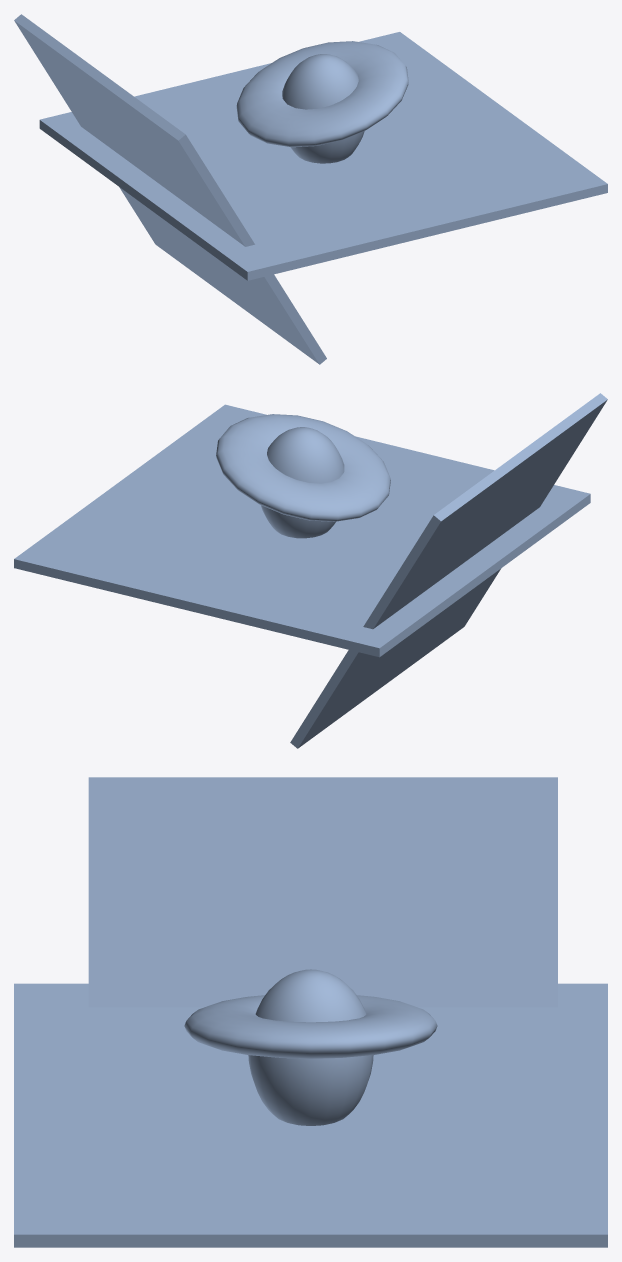
Rendered from Background.fbx.
3 renders of one model, top to bottom at view 1: azimuth 30°, elevation 25°; view 2: azimuth 150°, elevation 25°; view 3: azimuth 270°, elevation 25°, orthographic. The views are drawn at different scales.
Visible parts, largest first — view 1: pCube1, pCube2, pTorus1, pSphere1; view 2: pCube1, pCube2, pTorus1, pSphere1; view 3: pCube1, pCube2, pSphere1, pTorus1.
Part boxes in pixels (x1=…): pCube1: x1=39, y1=32, x2=607, y2=280; pCube2: x1=14, y1=14, x2=326, y2=364; pTorus1: x1=236, y1=41, x2=408, y2=147; pSphere1: x1=282, y1=54, x2=364, y2=163; pCube1: x1=14, y1=404, x2=590, y2=657; pCube2: x1=290, y1=393, x2=607, y2=748; pTorus1: x1=216, y1=414, x2=390, y2=521; pSphere1: x1=261, y1=427, x2=344, y2=538; pCube1: x1=14, y1=983, x2=607, y2=1247; pCube2: x1=88, y1=777, x2=557, y2=1007; pSphere1: x1=248, y1=969, x2=373, y2=1125; pTorus1: x1=184, y1=995, x2=437, y2=1058.
Bounding box in the file's own units: 7.88 × 4.91 × 7.04.
